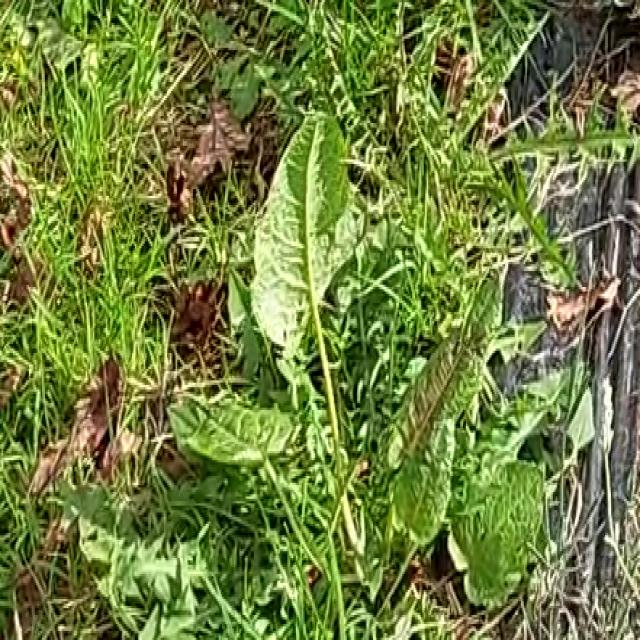organic waste: (171, 109, 536, 588)
